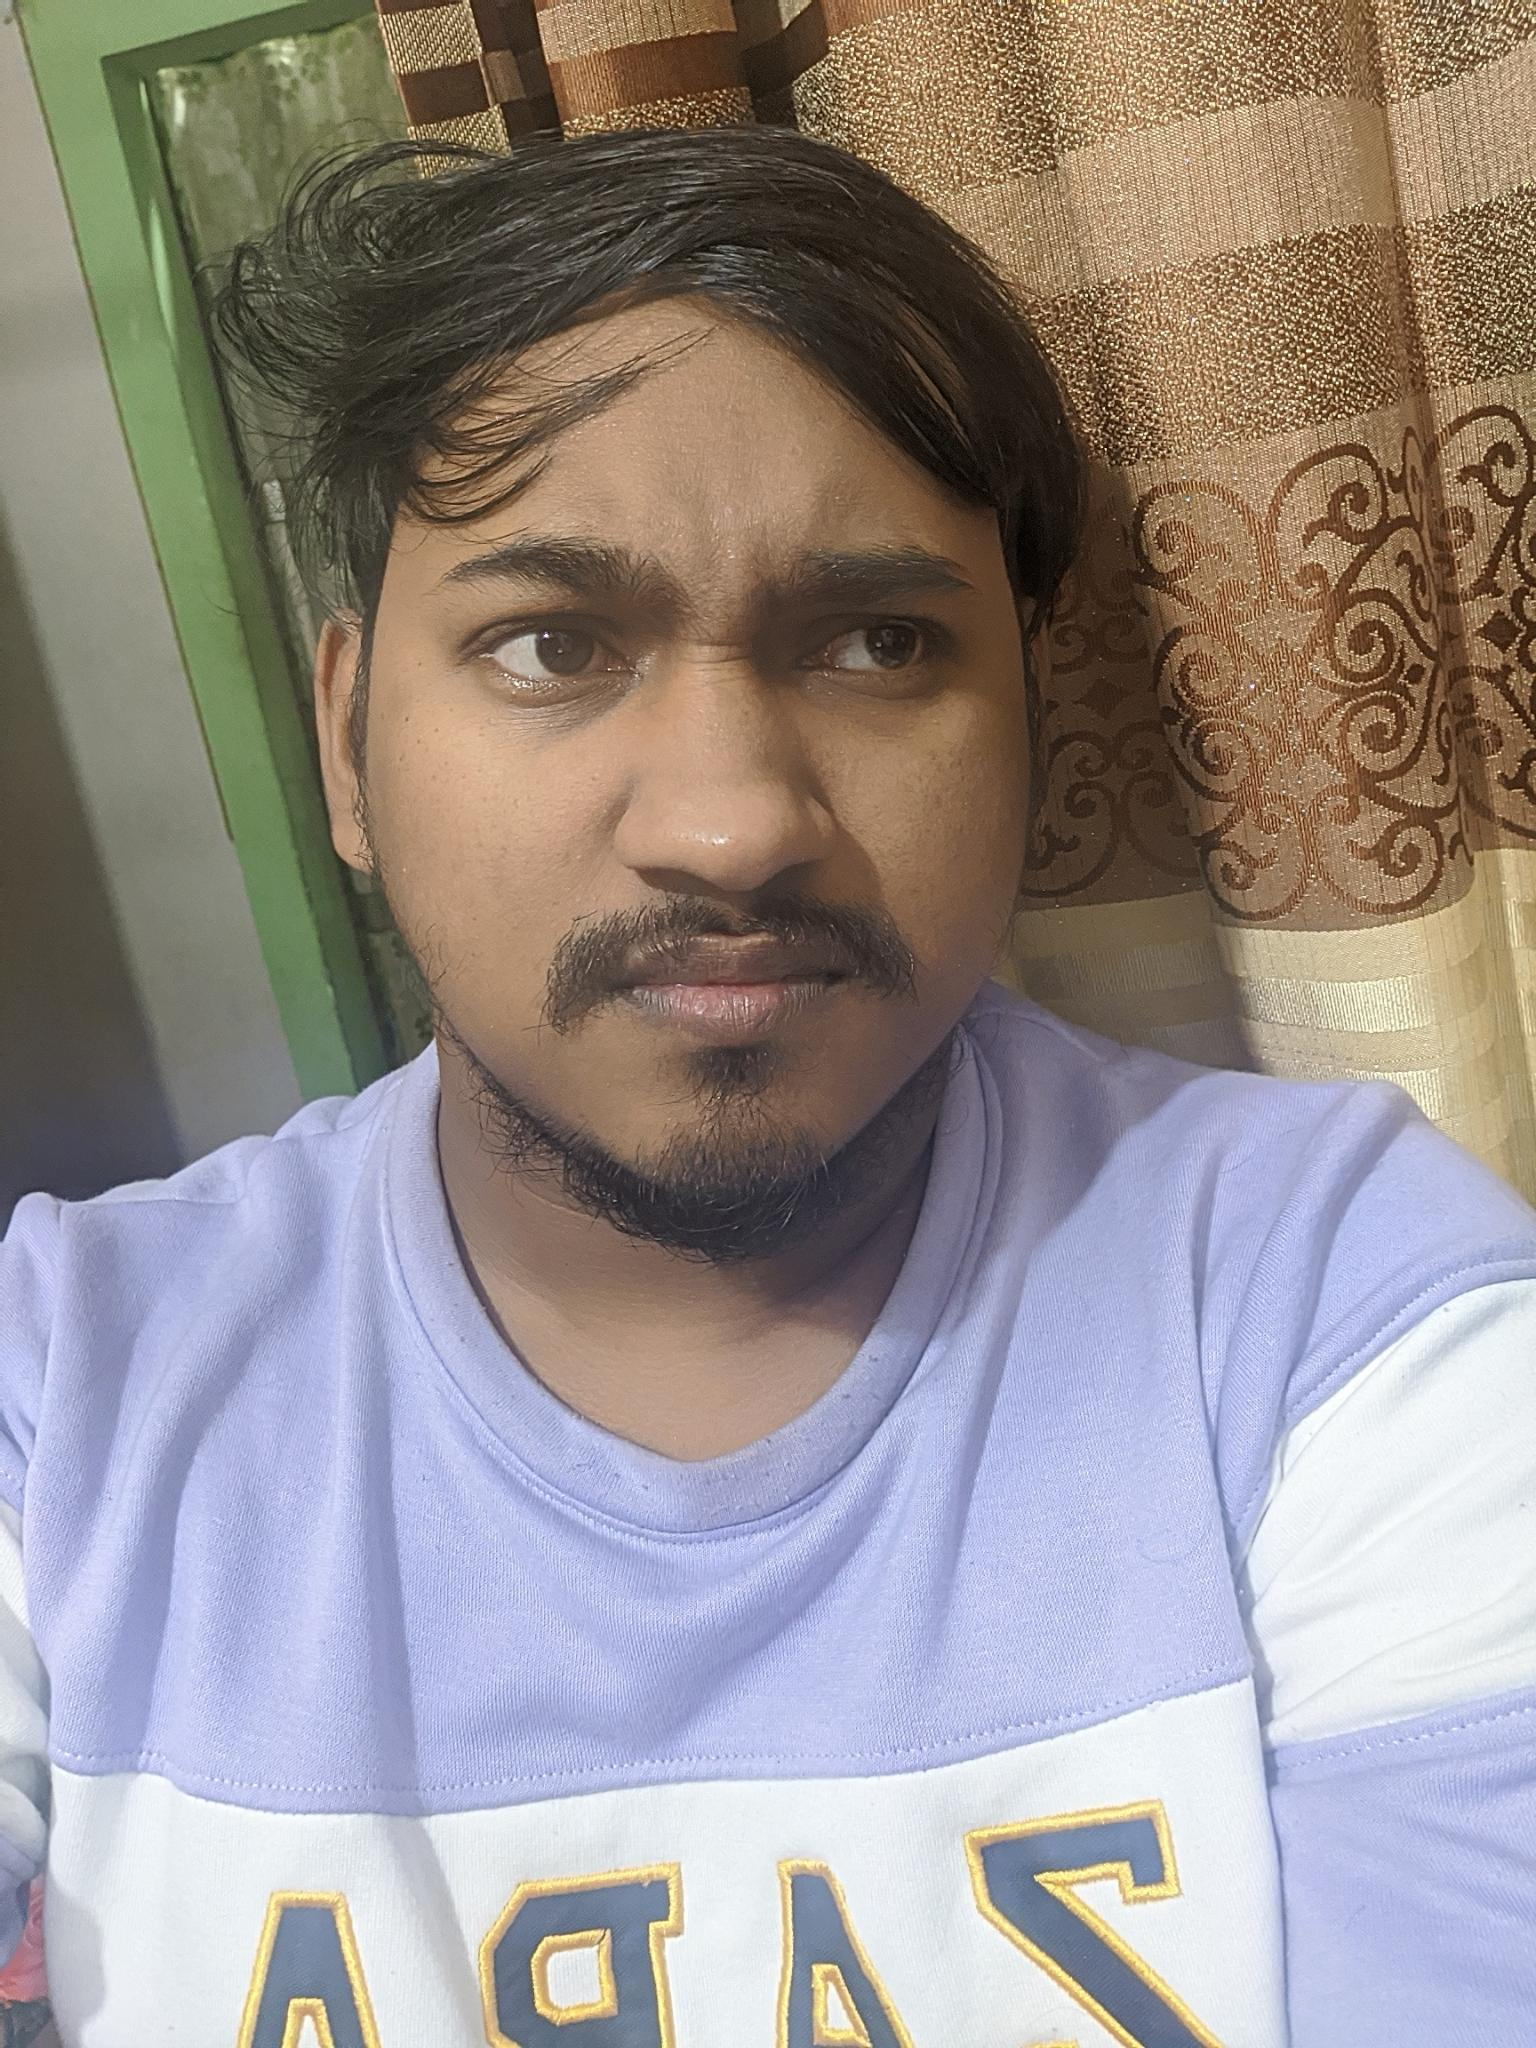Angry: (402, 450, 1029, 1208)
